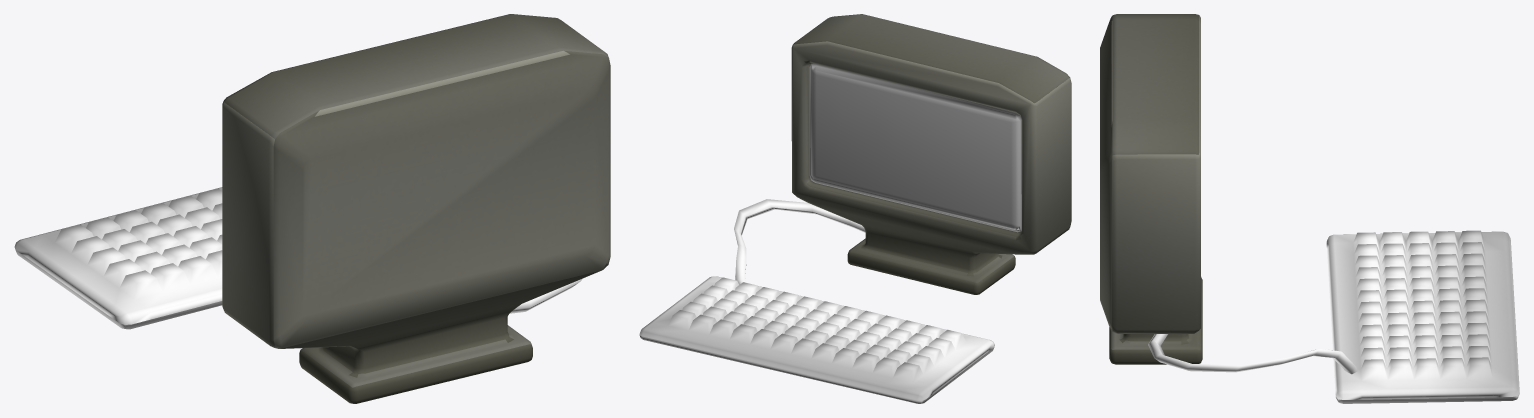
Rendered from Props_Computer_02.fbx.
3 views of the same model, side by side, from view 1: azimuth 30°, elevation 25°; view 2: azimuth 150°, elevation 25°; view 3: azimuth 270°, elevation 25° (orthographic). The views are drawn at different scales.
Parts seen in each view (by area): view 1: Props_Computer_02; view 2: Props_Computer_02; view 3: Props_Computer_02.
Part boxes in pixels (x1,y1,x2,y2): Props_Computer_02: [14, 14, 610, 403]; Props_Computer_02: [639, 14, 1071, 403]; Props_Computer_02: [1100, 14, 1519, 403].
Size of the model in its own units: 62.61 by 44.08 by 64.67.
